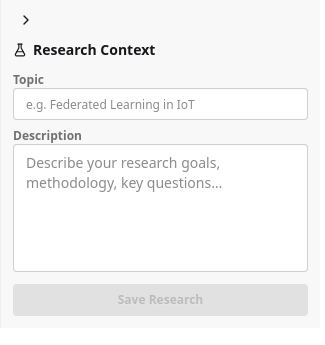
Test case: ResearchPanel › Save button is enabled when topic is filled and dirty
The width and height of the screenshot is (325, 345).
Type "New Topic" into the field with placeholder "e.g. Federated Learning in IoT" at (160, 104), box left=13, top=88, right=308, bottom=120
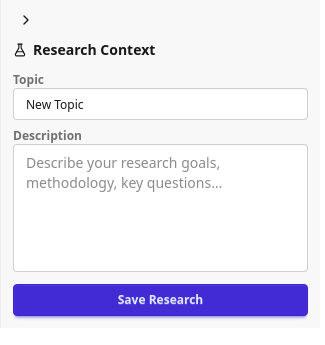
Expected: the button "Save Research" is enabled, left=13, top=284, right=308, bottom=316
